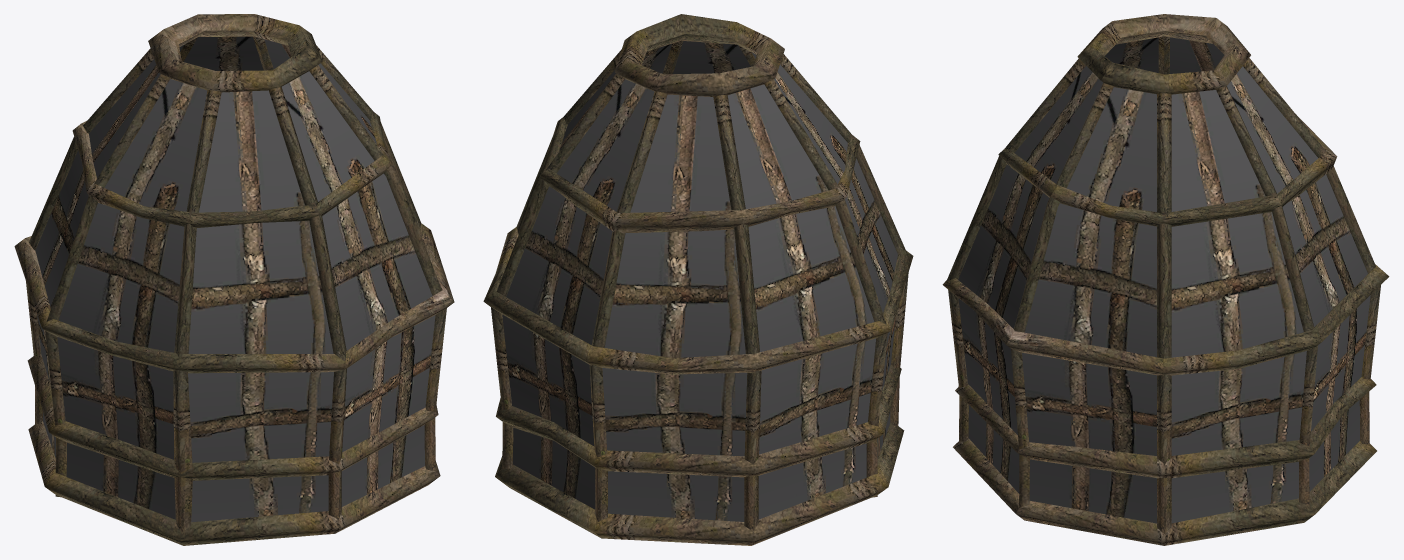
The picture shows the model from 3 angles, left to right: view 1: azimuth 30°, elevation 25°; view 2: azimuth 150°, elevation 25°; view 3: azimuth 270°, elevation 25°; orthographic projection.
Parts seen in each view (by area): view 1: LV_TurtleLake_Object_FishCage_SM_KSR; view 2: LV_TurtleLake_Object_FishCage_SM_KSR; view 3: LV_TurtleLake_Object_FishCage_SM_KSR.
Part boxes in pixels (box(x1,y1,x2,y2)): LV_TurtleLake_Object_FishCage_SM_KSR: box(14, 14, 454, 545); LV_TurtleLake_Object_FishCage_SM_KSR: box(483, 14, 913, 545); LV_TurtleLake_Object_FishCage_SM_KSR: box(942, 14, 1389, 545).
Bounding box in the file's own units: 17.93 × 18.86 × 18.03.
